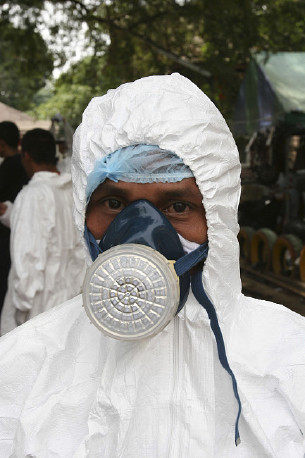face_mask: (87, 172, 202, 344)
